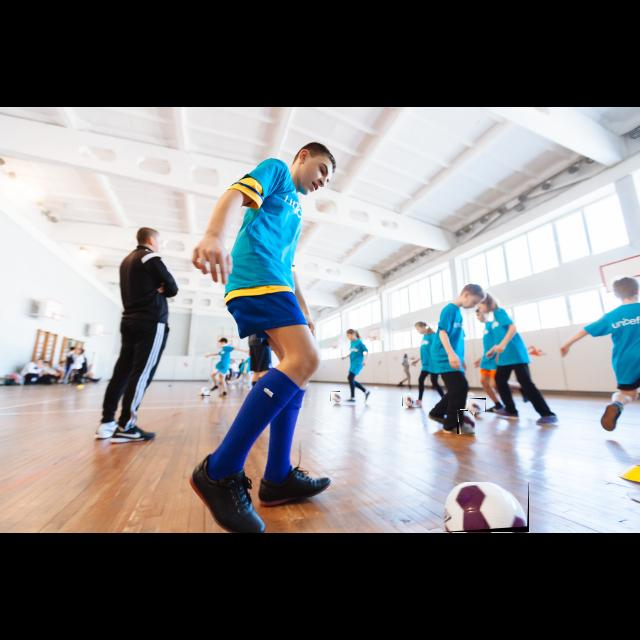Football: (443, 482, 529, 532), (457, 410, 475, 434), (468, 398, 486, 412), (196, 386, 210, 396), (402, 394, 412, 406), (330, 391, 340, 401)
